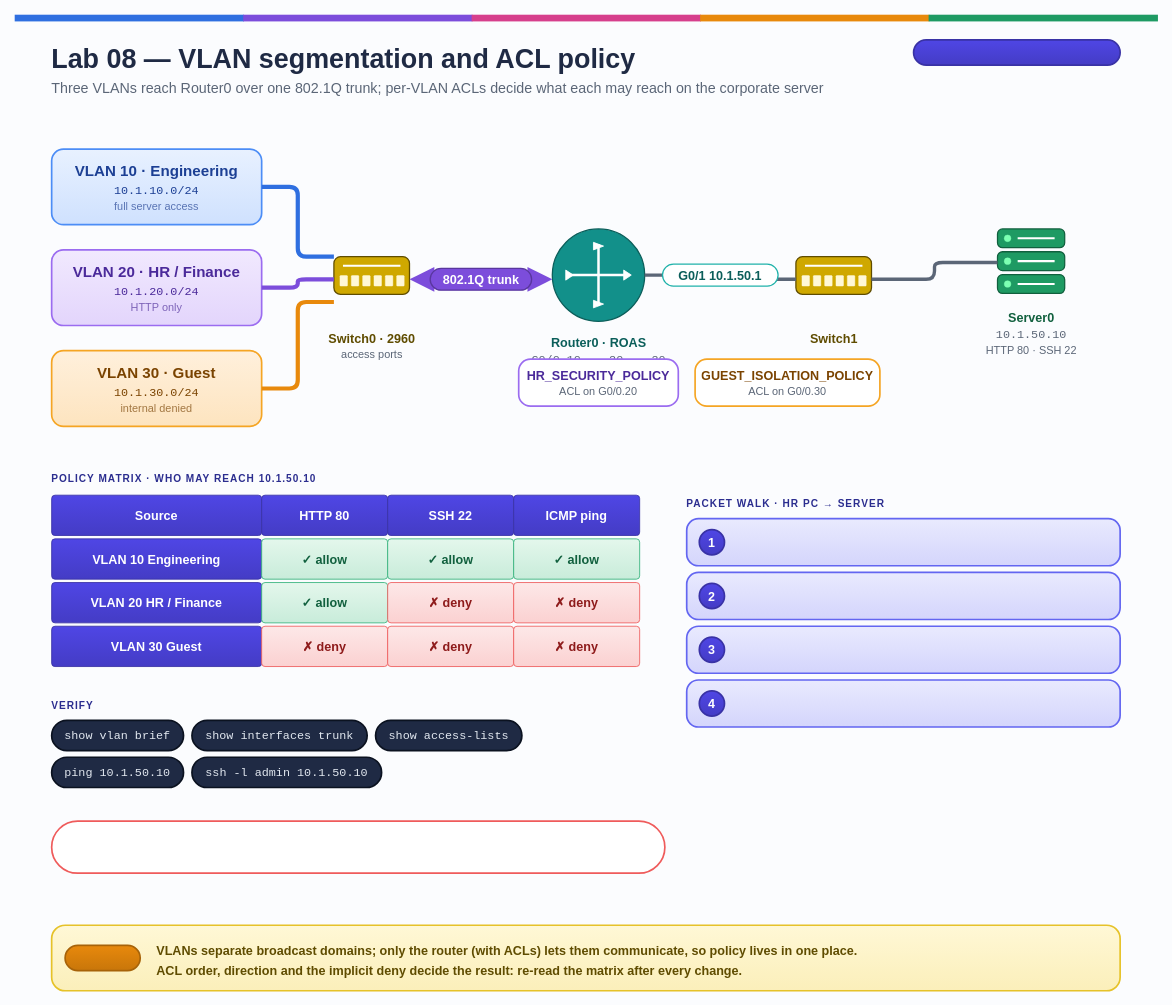
This 1172x1005 diagram has some shape labels left out. The box of each missing label's shape, as (x1, y1, x2, y2) in pixels:
Frame enters an access port Switch0 tags it with the port's VLAN ID: (685, 517, 1121, 566)
LAB 08 · PACKET TRACER LAB: (912, 39, 1121, 66)
OBSERVE: (64, 944, 141, 971)
Router routes between VLANs ACL on the sub-interface is checked first: (685, 625, 1121, 674)
Server reply returns via G0/1; ACL on G0/1 or in the policy matches: (685, 679, 1121, 727)
Test every cell of the matrix — a wrong ACL direction looks identical to no ACL: (50, 820, 665, 874)
Trunk carries it to Router0 802.1Q tag selects the sub-interface: (685, 571, 1121, 620)
